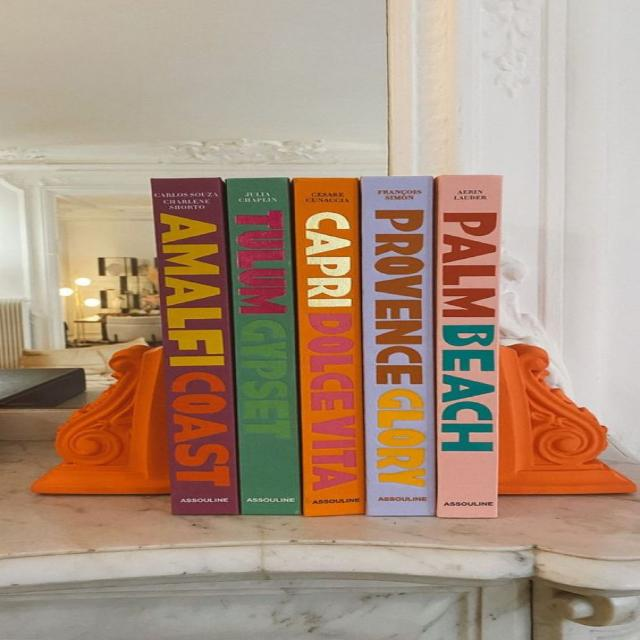book: (152, 178, 238, 515), (361, 176, 435, 516), (226, 178, 298, 514), (293, 178, 364, 516), (435, 179, 501, 516)
